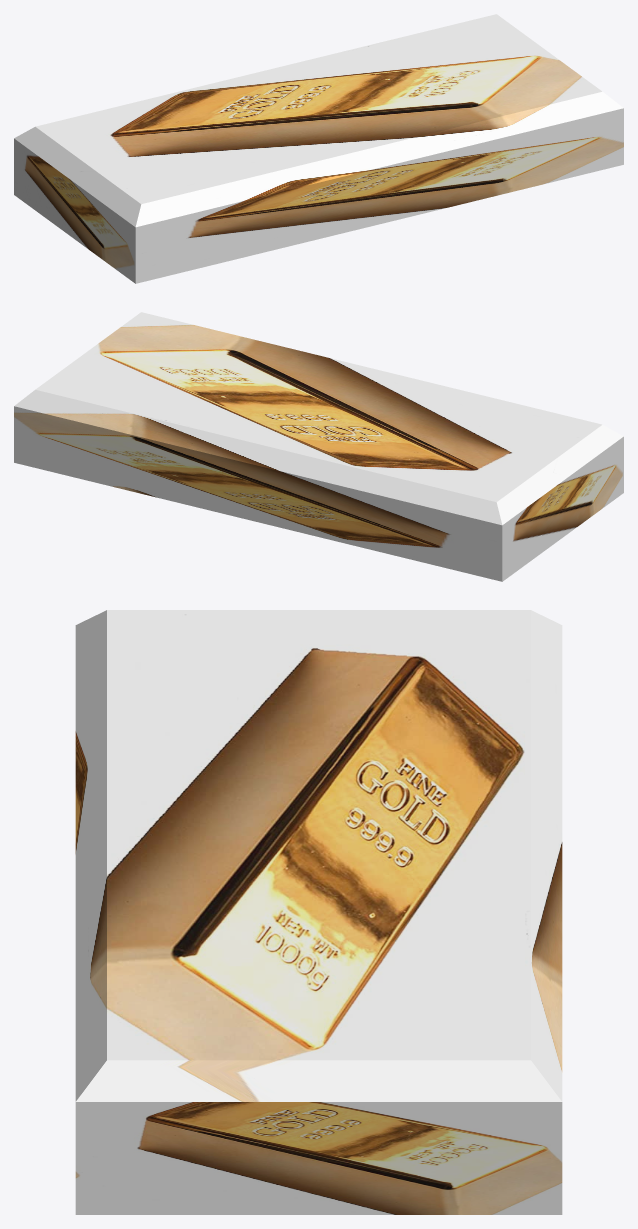
Rendered from Gold.fbx.
The picture shows the model from 3 angles, top to bottom: view 1: azimuth 30°, elevation 25°; view 2: azimuth 150°, elevation 25°; view 3: azimuth 270°, elevation 25°; orthographic projection. The views are drawn at different scales.
Visible parts, largest first — view 1: Gold; view 2: Gold; view 3: Gold.
Boxes of the visible parts, <box> form: Gold: <box>14,14,623,283</box>; Gold: <box>14,312,623,581</box>; Gold: <box>75,610,562,1214</box>.
Bounding box in the file's own units: 0.2789 × 0.0386 × 0.1203.
